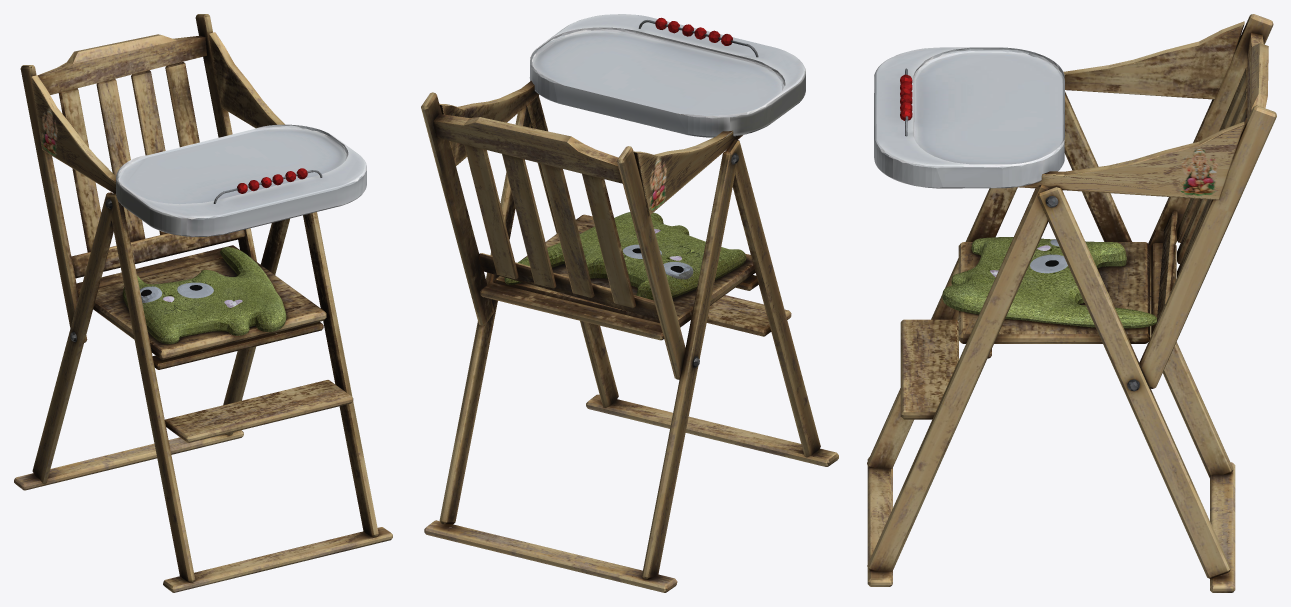
Rendered from Ciucciolo.obj.
3 views of the same model, side by side, from view 1: azimuth 30°, elevation 25°; view 2: azimuth 150°, elevation 25°; view 3: azimuth 270°, elevation 25° (orthographic). The views are drawn at different scales.
Parts seen in each view (by area): view 1: Accuyre1, Ittu002; view 2: Accuyre1, Ittu002; view 3: Accuyre1, Ittu002.
Boxes of the visible parts, bbox=[...] form: Accuyre1: bbox=[14, 14, 392, 592]; Ittu002: bbox=[122, 247, 286, 343]; Accuyre1: bbox=[421, 14, 838, 592]; Ittu002: bbox=[504, 212, 746, 300]; Accuyre1: bbox=[867, 14, 1276, 592]; Ittu002: bbox=[942, 237, 1156, 328].
Bounding box in the file's own units: 45.07 × 80.12 × 62.24.
